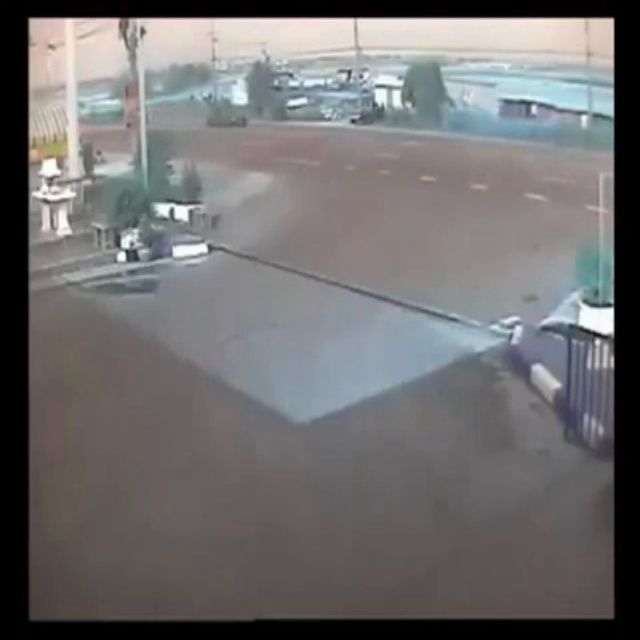acc: (153, 109, 249, 131)
